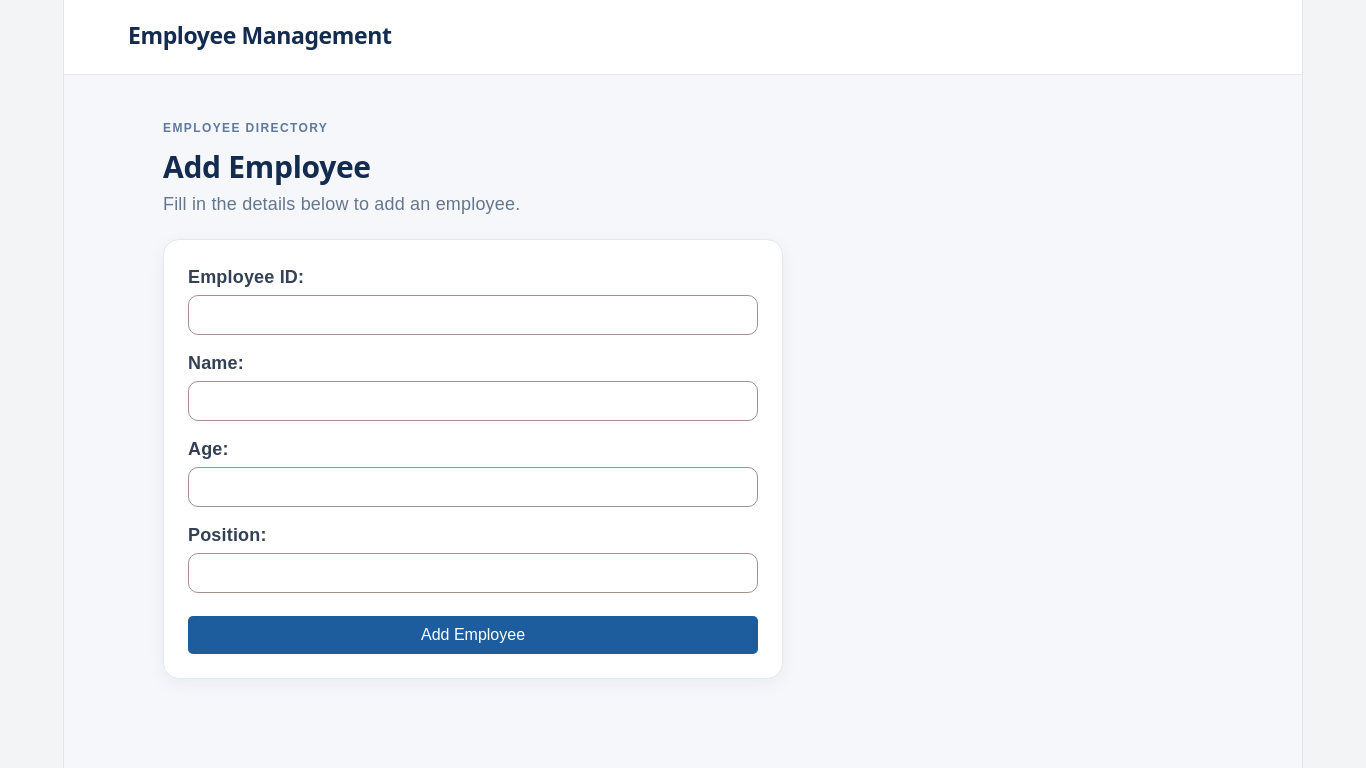
Test: Employee pages › adds an employee from the employee form and clears the fields
Type "3" into the number field labelled "Employee ID:" at {"x": 473, "y": 315}, box 188,295 -> 758,335
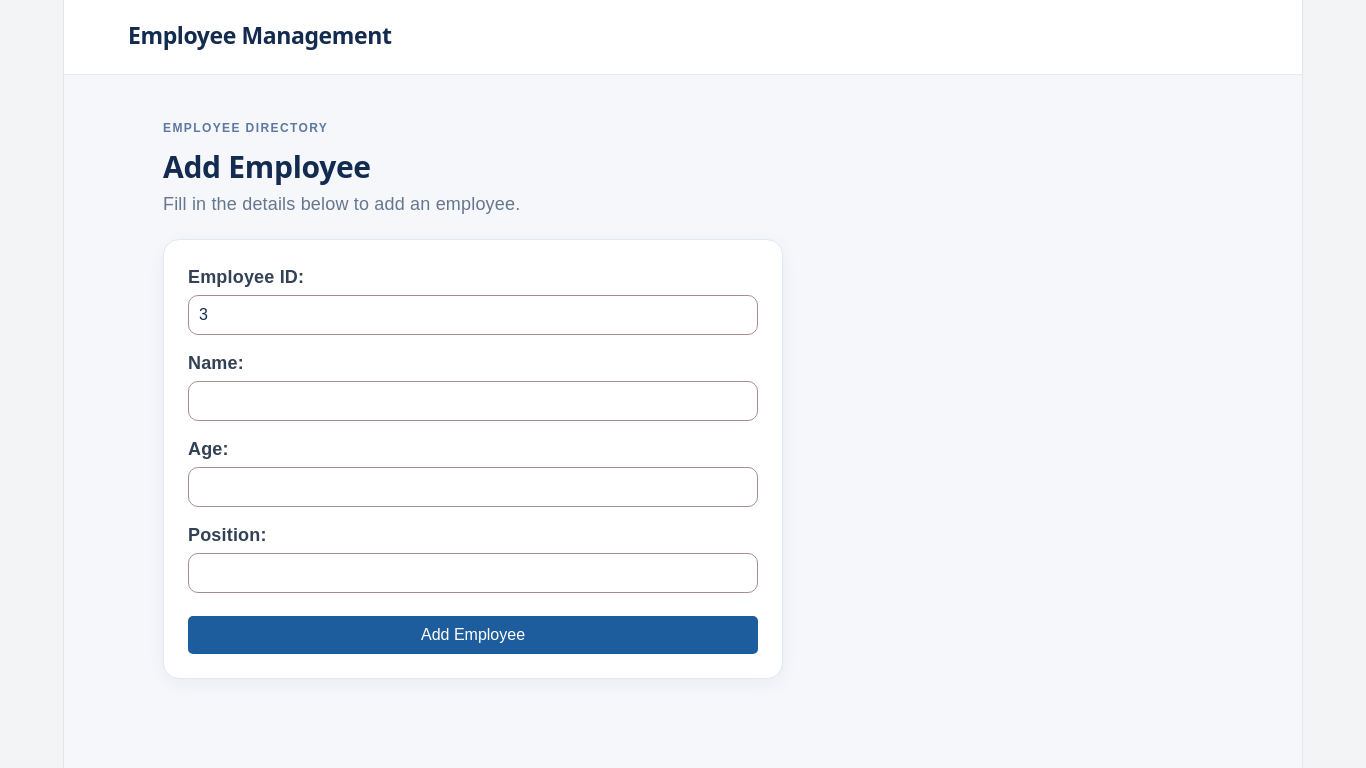
Type "Maya" into the field labelled "Name:" at {"x": 473, "y": 401}, box 188,381 -> 758,421
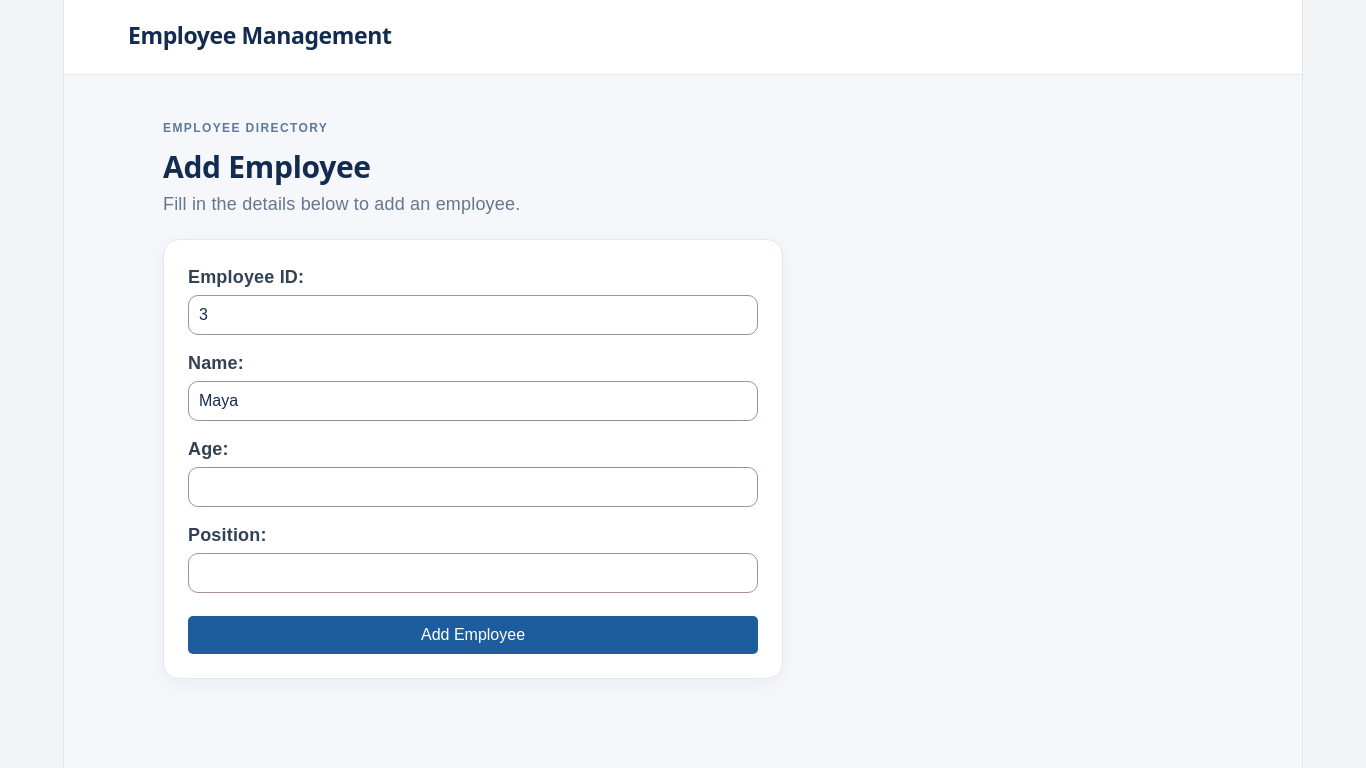
Type "25" into the number field labelled "Age:" at {"x": 473, "y": 487}, box 188,467 -> 758,507
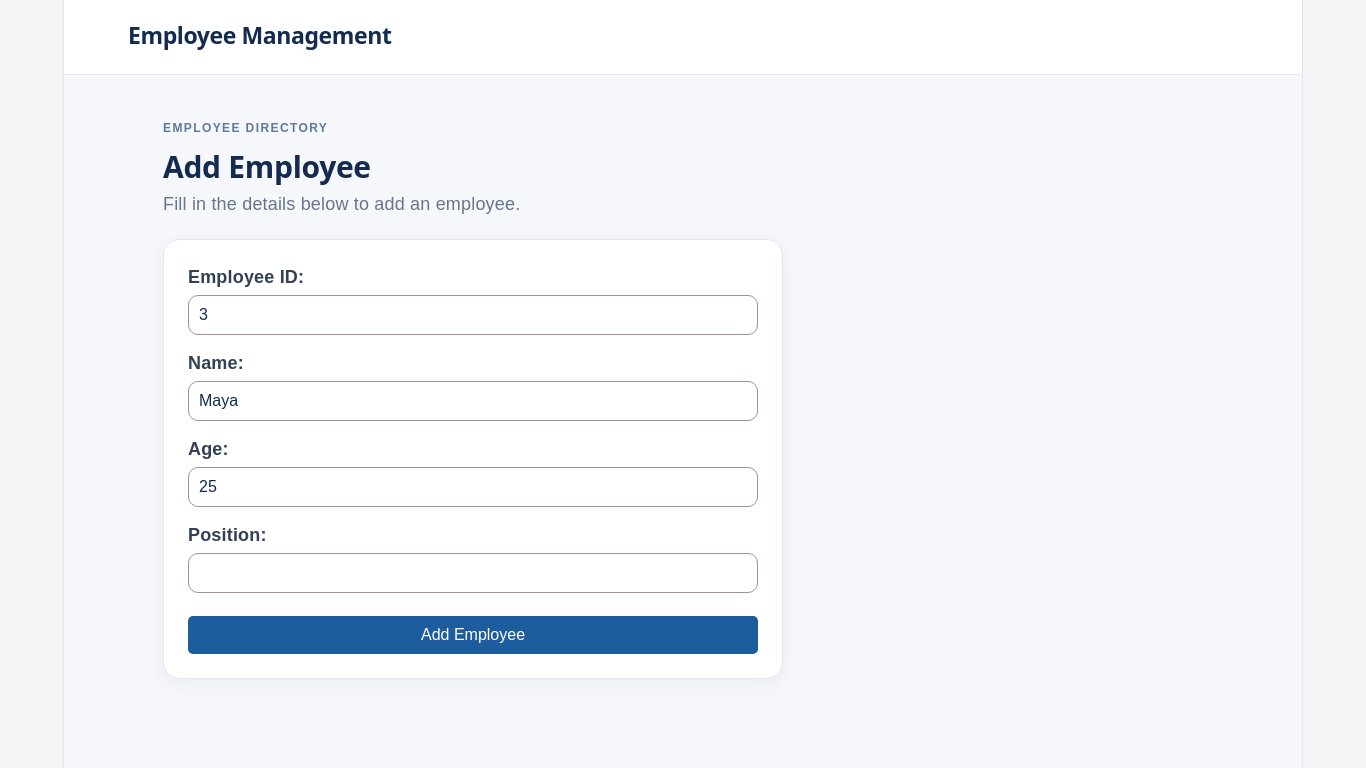
Type "Analyst" into the field labelled "Position:" at {"x": 473, "y": 573}, box 188,553 -> 758,593
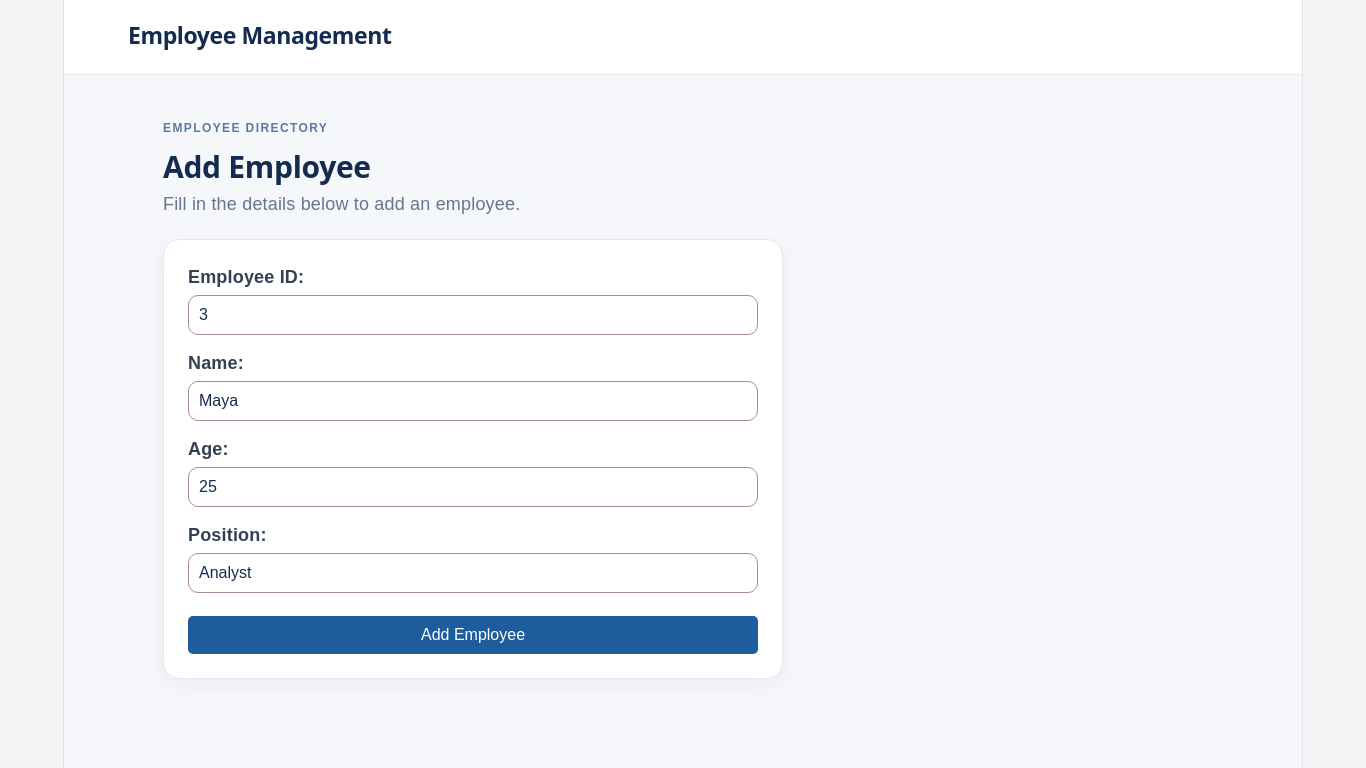
Click the button "Add Employee" at {"x": 473, "y": 635}, box 188,616 -> 758,654
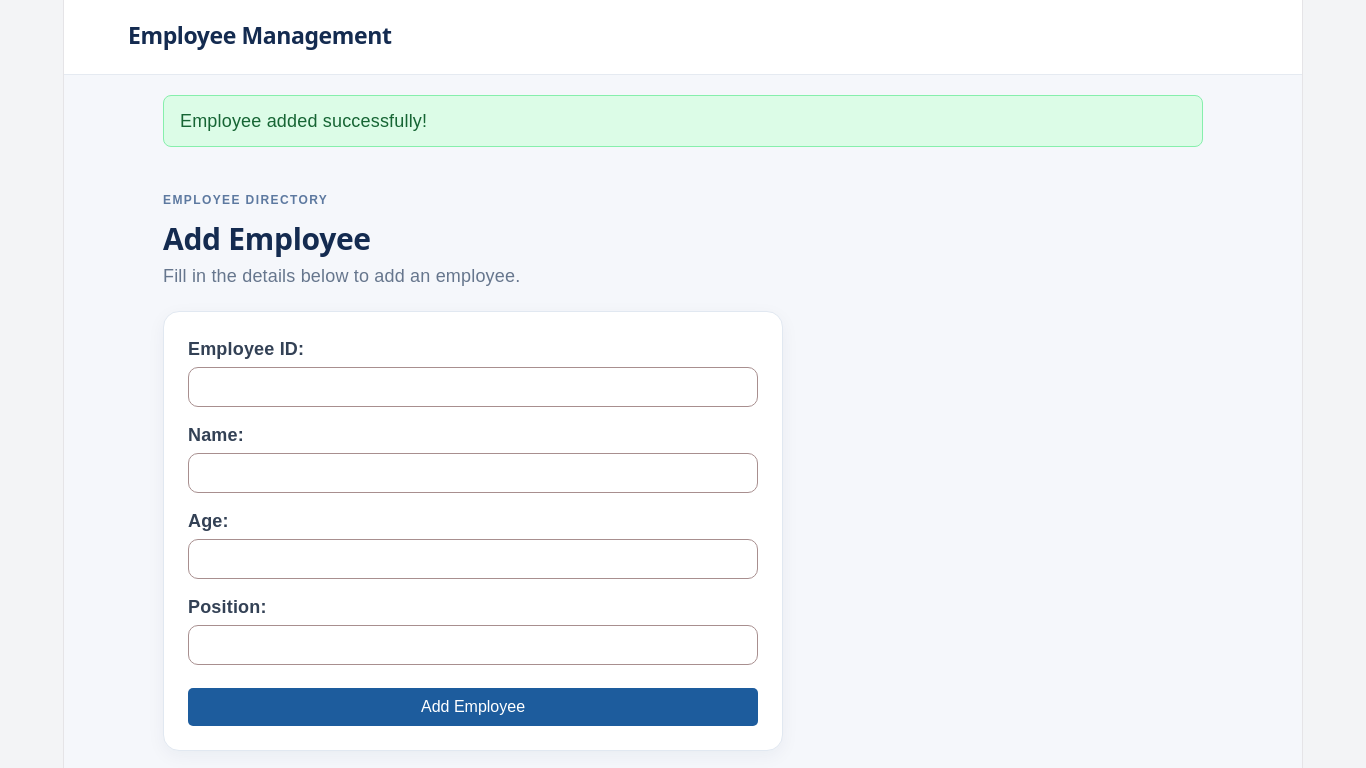
expect the number field labelled "Employee ID:" is not empty: met, box 188,367 -> 758,407
expect the text "Employee added successfully!" is shown: met, box 163,95 -> 1203,147
